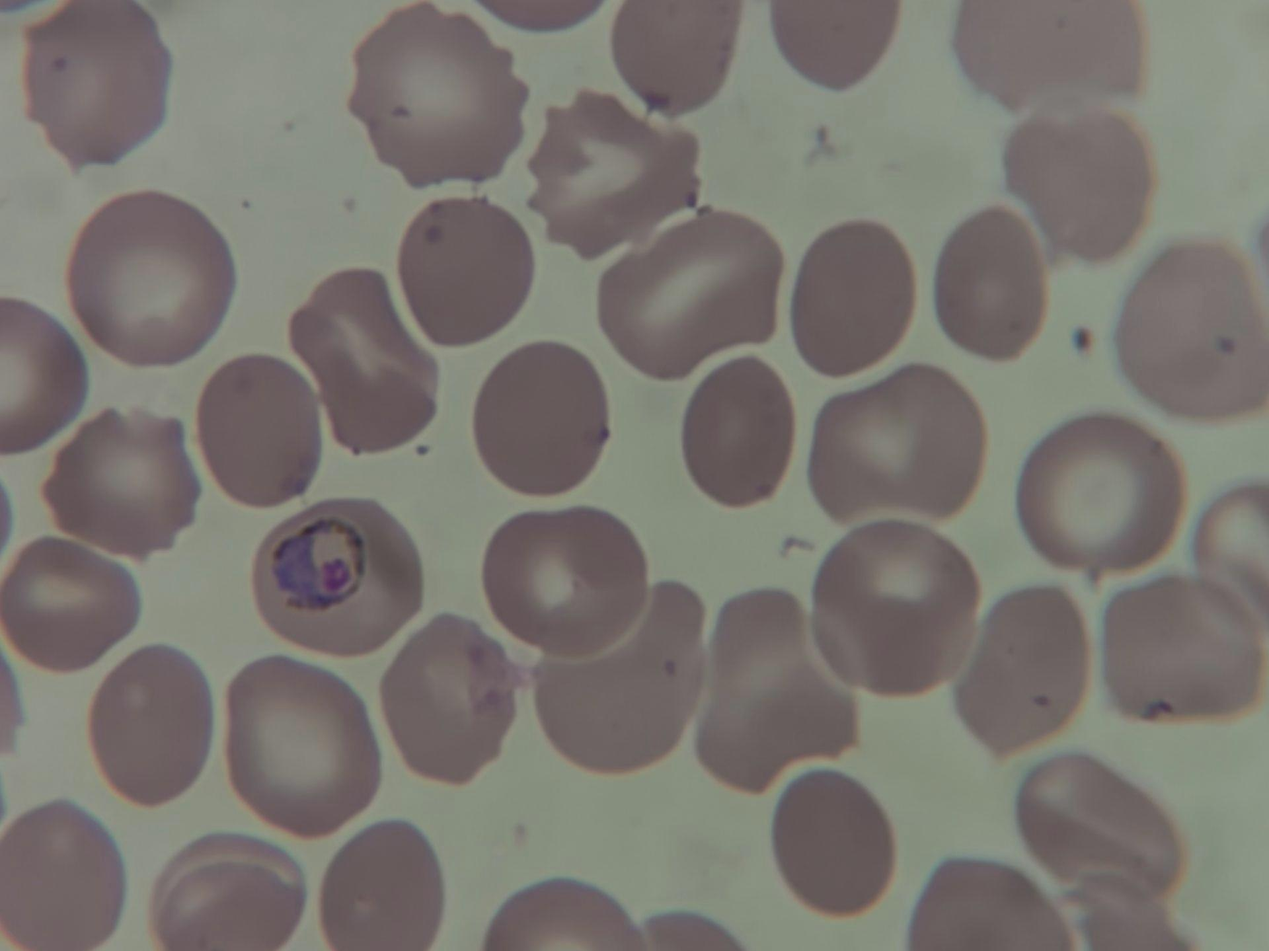Infected: (249, 494, 427, 650)
Uninfected: (529, 582, 711, 780), (692, 596, 865, 787), (533, 84, 711, 262), (350, 5, 518, 190), (811, 525, 984, 703), (608, 208, 784, 380), (216, 648, 380, 831), (1110, 239, 1269, 423), (73, 192, 238, 365), (295, 265, 445, 453), (803, 366, 991, 515), (1022, 404, 1187, 568), (1013, 759, 1176, 912), (24, 10, 175, 173), (956, 573, 1091, 750), (1102, 571, 1257, 725), (485, 512, 652, 649), (46, 413, 207, 552), (1009, 113, 1149, 262), (383, 618, 513, 778), (198, 349, 328, 508), (401, 195, 533, 351), (88, 644, 213, 803), (478, 340, 604, 495), (793, 223, 914, 384), (679, 353, 795, 518), (152, 829, 307, 951), (0, 534, 137, 669), (941, 208, 1055, 365), (778, 763, 893, 916), (4, 798, 110, 951), (326, 816, 446, 951), (604, 1, 729, 114)
